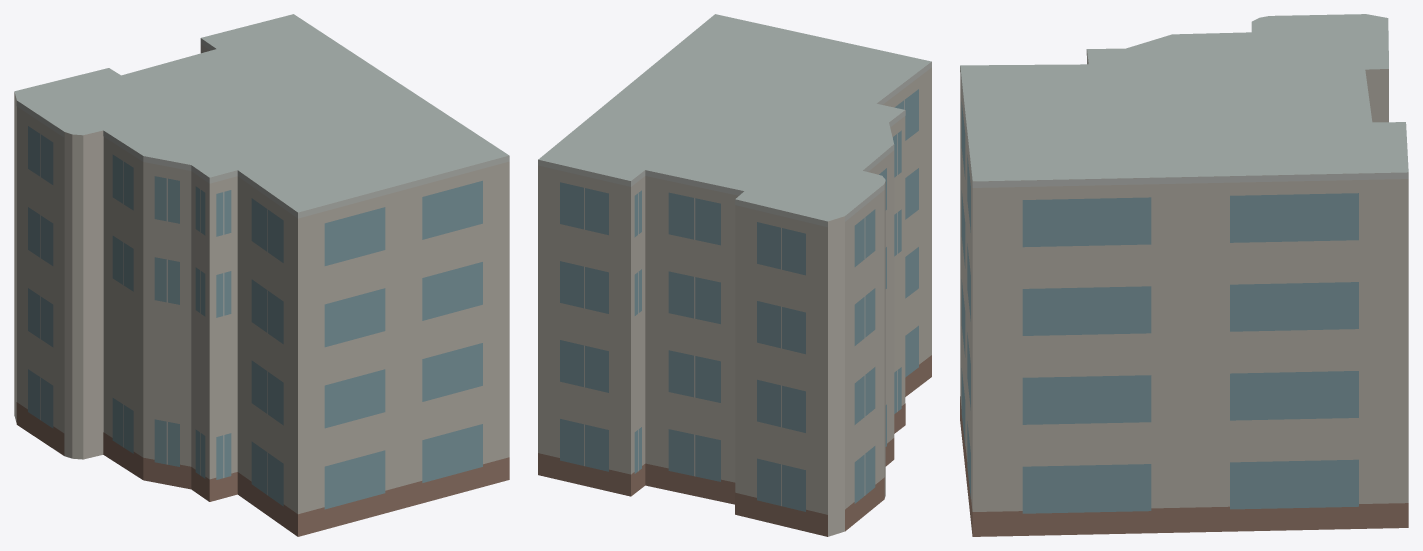
The model's file is survey-upis-32641468.glb.
3 views of the same model, side by side, from view 1: azimuth 30°, elevation 25°; view 2: azimuth 150°, elevation 25°; view 3: azimuth 270°, elevation 25° (orthographic). The views are drawn at different scales.
Parts seen in each view (by area): view 1: survey-upis-32641468.tmp; view 2: survey-upis-32641468.tmp; view 3: survey-upis-32641468.tmp.
Boxes of the visible parts, x1,y1,x2,y2 form: survey-upis-32641468.tmp: [14, 14, 509, 536]; survey-upis-32641468.tmp: [538, 14, 931, 536]; survey-upis-32641468.tmp: [960, 14, 1408, 536].
Bounding box in the file's own units: 13.35 × 13.2 × 15.1.
